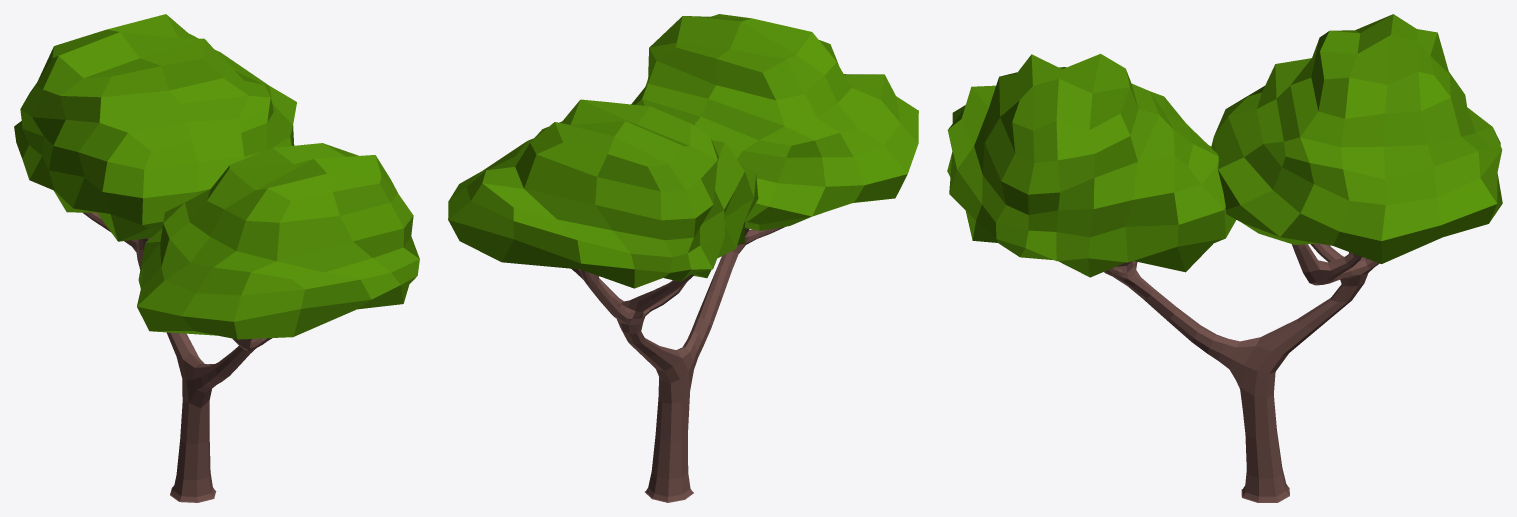
The model's file is Tree1.glb.
3 views of the same model, side by side, from view 1: azimuth 30°, elevation 25°; view 2: azimuth 150°, elevation 25°; view 3: azimuth 270°, elevation 25° (orthographic). The views are drawn at different scales.
Visible parts, largest first — view 1: CommonTree_1; view 2: CommonTree_1; view 3: CommonTree_1.
Boxes of the visible parts, x1,y1,x2,y2 form: CommonTree_1: (14,14,419,502); CommonTree_1: (448,14,918,502); CommonTree_1: (947,14,1502,502).
Bounding box in the file's own units: 1.89 × 2.48 × 2.77.
